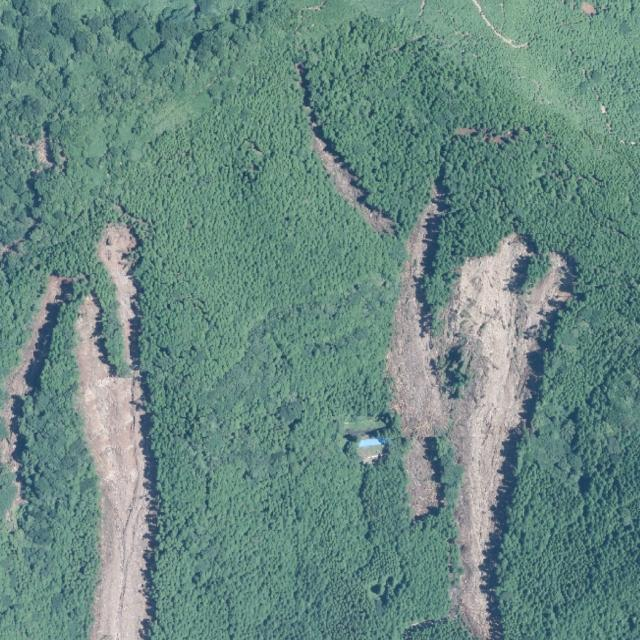landslide: (388, 193, 572, 639), (74, 223, 154, 640), (0, 275, 75, 475), (312, 122, 395, 235)
